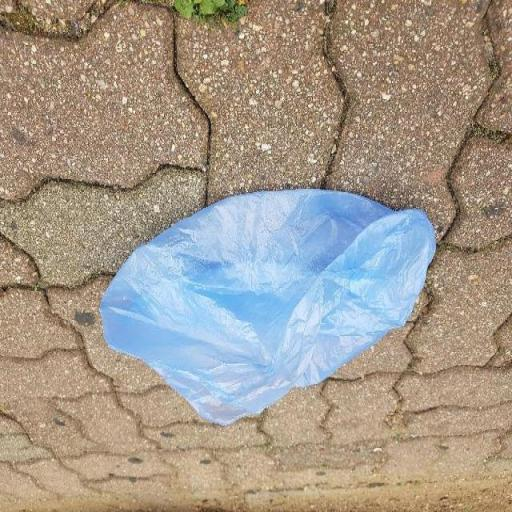plastic-bag: (114, 186, 444, 432)
